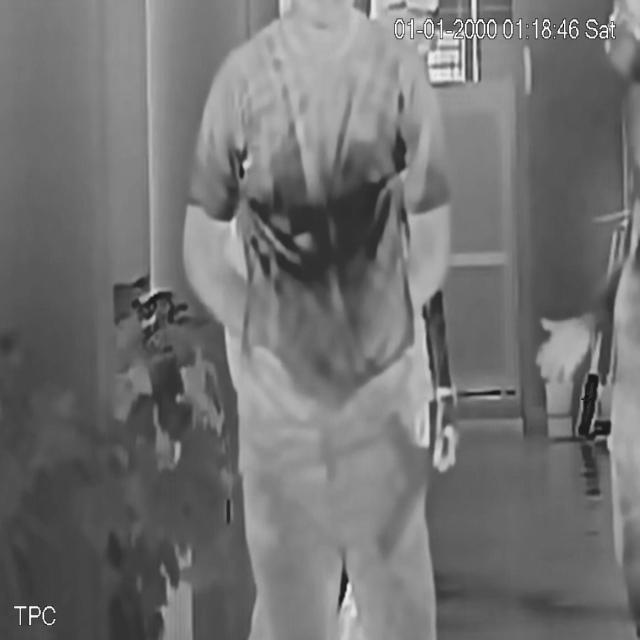Weapon: (374, 406, 444, 581)
